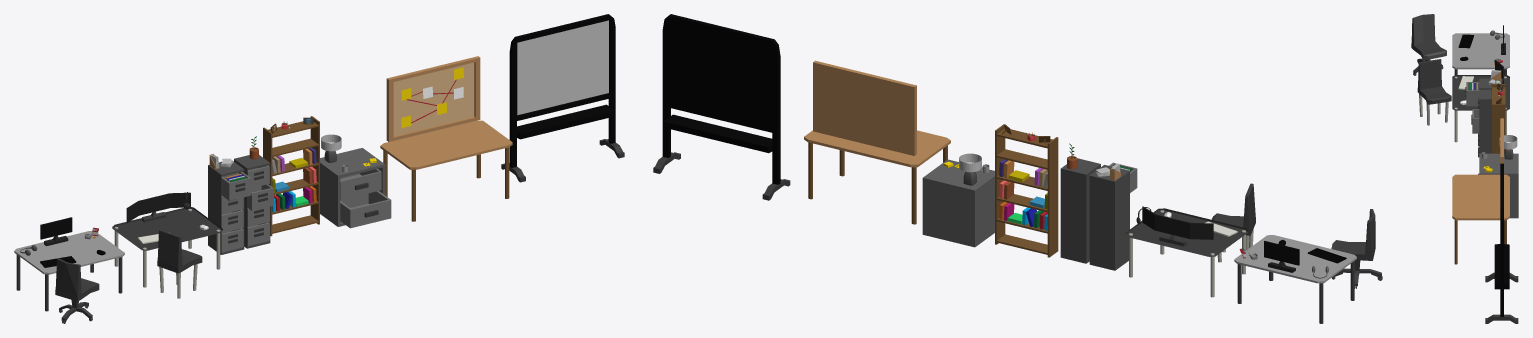
The model's file is office_props.glb.
3 renders of one model, left to right at view 1: azimuth 30°, elevation 25°; view 2: azimuth 150°, elevation 25°; view 3: azimuth 270°, elevation 25°, orthographic. The views are drawn at different scales.
Visible parts, largest first — view 1: Whiteboard, WoodBoard, Table3, Shelves1, Table2, Table1, Drawers3, Seat2, Seat1, Drawer.001, Drawers2, Triple Monitor (+10 smaller); view 2: Whiteboard, WoodBoard, Drawers3, Shelves1, Drawers2, Table2, Drawers, Table3, Table1, Triple Monitor, Seat2, Seat1 (+2 smaller); view 3: Table3, Table2, Whiteboard, Seat1, Seat2, Drawers3, Table1, Drawers, Shelves1, Drawer.009, Lamp, Drawer.003 (+6 smaller).
Part boxes in pixels (box(x1,y1,x2,y2)): Whiteboard: box(501, 14, 624, 182); WoodBoard: box(386, 56, 480, 141); Table3: box(380, 120, 512, 221); Shelves1: box(263, 116, 319, 236); Table2: box(14, 231, 124, 311); Table1: box(112, 207, 222, 287); Drawers3: box(320, 148, 385, 226); Seat2: box(55, 258, 99, 323); Seat1: box(157, 229, 202, 298); Drawer.001: box(340, 191, 391, 228); Drawers2: box(208, 161, 244, 254); Triple Monitor: box(126, 192, 190, 222); Whiteboard: box(653, 14, 790, 200); WoodBoard: box(813, 60, 916, 155); Drawers3: box(922, 159, 994, 247); Shelves1: box(995, 124, 1058, 257); Drawers2: box(1089, 165, 1129, 270); Table2: box(1234, 235, 1356, 323); Drawers: box(1060, 158, 1100, 263); Table3: box(804, 130, 950, 224); Table1: box(1125, 208, 1248, 297); Triple Monitor: box(1142, 206, 1213, 246); Seat2: box(1331, 209, 1382, 288); Seat1: box(1211, 183, 1255, 262); Table3: box(1452, 174, 1509, 264); Table2: box(1452, 33, 1509, 74); Whiteboard: box(1485, 163, 1518, 323); Seat1: box(1417, 59, 1451, 125); Seat2: box(1411, 14, 1446, 75); Drawers3: box(1479, 153, 1518, 218); Table1: box(1452, 75, 1509, 142); Drawers: box(1479, 89, 1491, 153); Shelves1: box(1492, 84, 1505, 153); Drawer.009: box(1465, 82, 1479, 106); Lamp: box(1499, 135, 1517, 159); Drawer.003: box(1471, 109, 1479, 133).
Size of the model in its own units: 12.25 by 2.66 by 2.18.
Materials: 3 (3 with a texture image).
